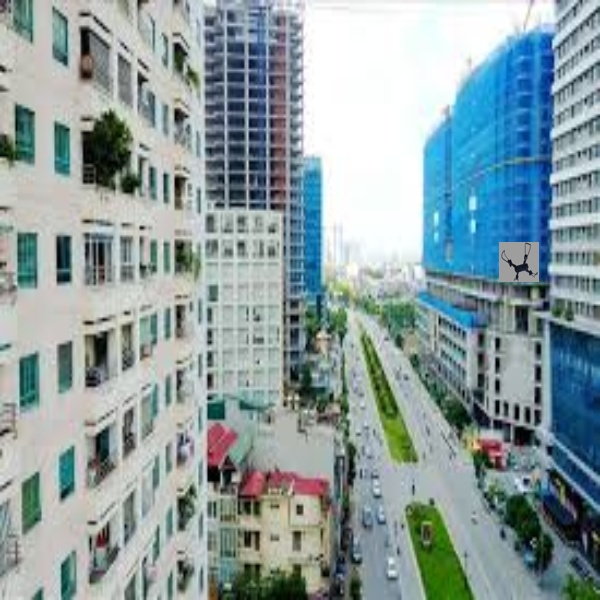drone: (497, 241, 539, 279)
